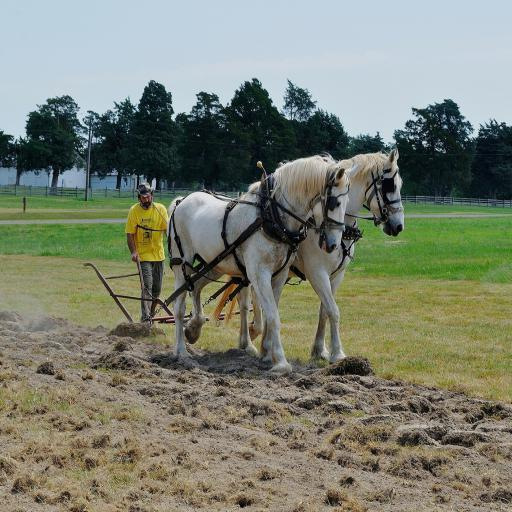horse: (168, 150, 363, 366), (212, 146, 404, 362)
